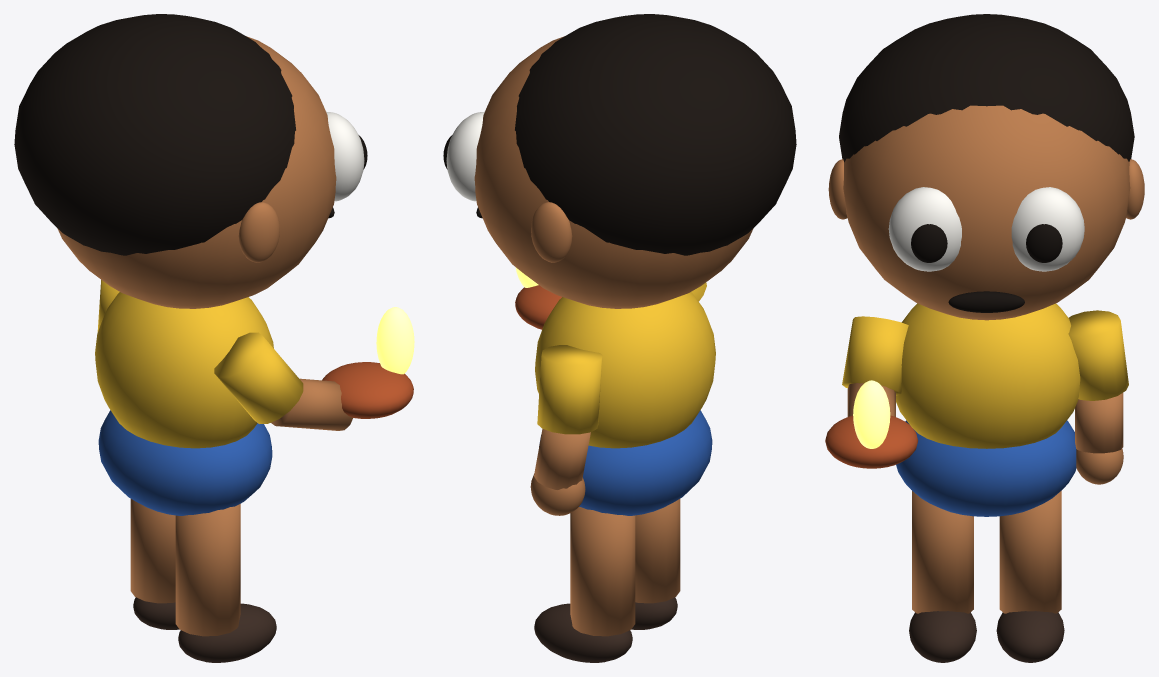
Rendered from child.glb.
3 renders of one model, left to right at view 1: azimuth 30°, elevation 25°; view 2: azimuth 150°, elevation 25°; view 3: azimuth 270°, elevation 25°, orthographic. The views are drawn at different scales.
Parts seen in each view (by area): view 1: Sphere.008, Sphere.003, Sphere.007, Sphere.002, Cylinder.001, Cylinder.004, Cylinder, Sphere.005, Sphere.001, Cylinder.005, Sphere.009, Sphere.006 (+2 smaller); view 2: Sphere.008, Sphere.007, Sphere.003, Sphere.002, Cylinder, Cylinder.002, Cylinder.001, Sphere, Cylinder.003, Sphere.012, Sphere.014, Sphere.004 (+2 smaller); view 3: Sphere.007, Sphere.008, Sphere.003, Sphere.002, Cylinder, Cylinder.001, Cylinder.002, Cylinder.004, Sphere.012, Sphere.009, Sphere.005, Sphere.001 (+10 smaller).
Part boxes in pixels (x1=…): Sphere.008: x1=14, y1=14, x2=295, y2=255; Sphere.003: x1=95, y1=292, x2=273, y2=448; Sphere.007: x1=57, y1=36, x2=336, y2=308; Sphere.002: x1=98, y1=410, x2=272, y2=515; Cylinder.001: x1=175, y1=504, x2=240, y2=636; Cylinder.004: x1=214, y1=332, x2=303, y2=423; Cylinder: x1=130, y1=499, x2=175, y2=603; Sphere.005: x1=322, y1=362, x2=413, y2=418; Sphere.001: x1=178, y1=603, x2=276, y2=662; Cylinder.005: x1=271, y1=378, x2=352, y2=430; Sphere.009: x1=326, y1=111, x2=364, y2=201; Sphere.006: x1=376, y1=307, x2=414, y2=374; Sphere.008: x1=515, y1=14, x2=796, y2=255; Sphere.007: x1=474, y1=36, x2=753, y2=308; Sphere.003: x1=535, y1=292, x2=715, y2=448; Sphere.002: x1=539, y1=410, x2=712, y2=515; Cylinder: x1=570, y1=507, x2=635, y2=636; Cylinder.002: x1=537, y1=345, x2=602, y2=434; Cylinder.001: x1=635, y1=499, x2=680, y2=603; Sphere: x1=534, y1=603, x2=632, y2=662; Cylinder.003: x1=534, y1=429, x2=590, y2=489; Sphere.012: x1=446, y1=111, x2=484, y2=201; Sphere.014: x1=531, y1=202, x2=572, y2=262; Sphere.004: x1=530, y1=474, x2=585, y2=515; Sphere.007: x1=843, y1=105, x2=1130, y2=320; Sphere.008: x1=839, y1=14, x2=1134, y2=162; Sphere.003: x1=896, y1=303, x2=1080, y2=448; Sphere.002: x1=896, y1=420, x2=1076, y2=516; Cylinder: x1=999, y1=491, x2=1061, y2=613; Cylinder.001: x1=912, y1=491, x2=973, y2=613; Cylinder.002: x1=1068, y1=310, x2=1128, y2=400; Cylinder.004: x1=842, y1=316, x2=908, y2=395; Sphere.012: x1=1011, y1=187, x2=1084, y2=271; Sphere.009: x1=888, y1=187, x2=961, y2=271; Sphere.005: x1=825, y1=415, x2=918, y2=468; Sphere.001: x1=909, y1=611, x2=976, y2=662.
Bounding box in the file's own units: 0.654 × 1.22 × 0.5835.
